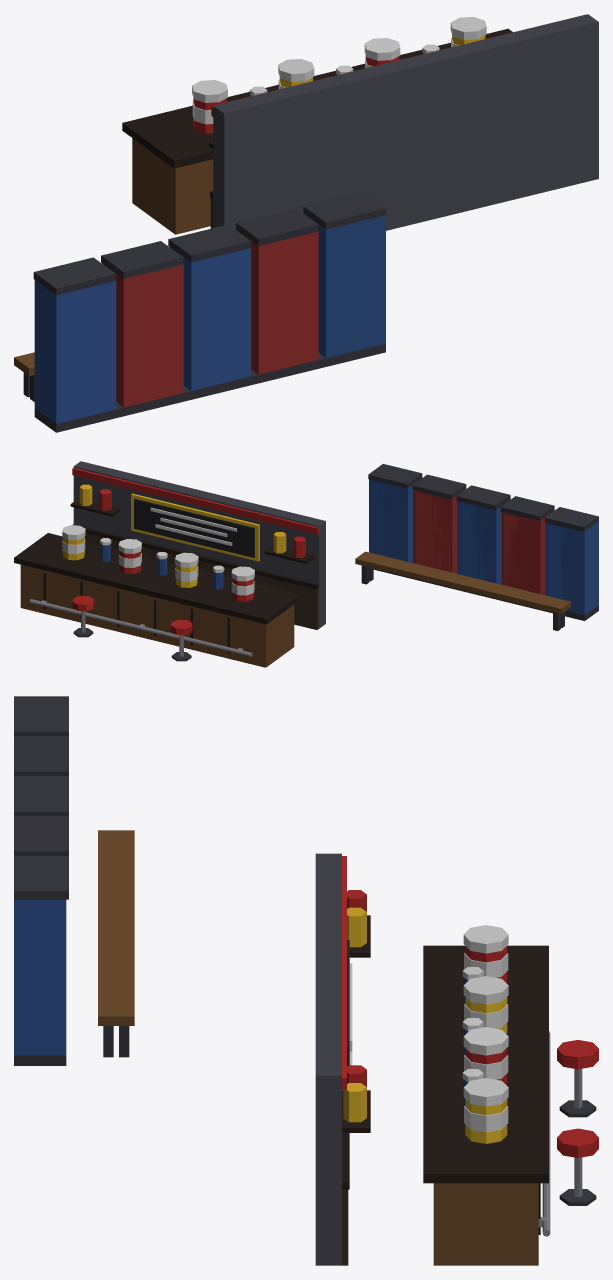
The model's file is Decor_GymHall_Bar.fbx.
The picture shows the model from 3 angles, top to bottom: view 1: azimuth 30°, elevation 25°; view 2: azimuth 150°, elevation 25°; view 3: azimuth 270°, elevation 25°; orthographic projection. The views are drawn at different scales.
Visible parts, largest first — view 1: Bar_Body; view 2: Bar_Body; view 3: Bar_Body.
Boxes of the visible parts, left/top/right/bottom form: Bar_Body: left=14, top=14, right=598, bottom=432; Bar_Body: left=14, top=461, right=598, bottom=667; Bar_Body: left=14, top=696, right=598, bottom=1265.
Bounding box in the file's own units: 35.9 × 8 × 22.3.
